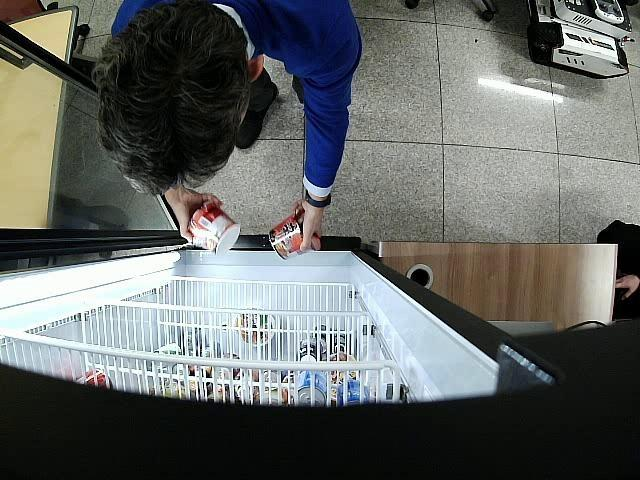01_ShinRamen_L: (188, 202, 240, 258), (270, 215, 302, 260)
